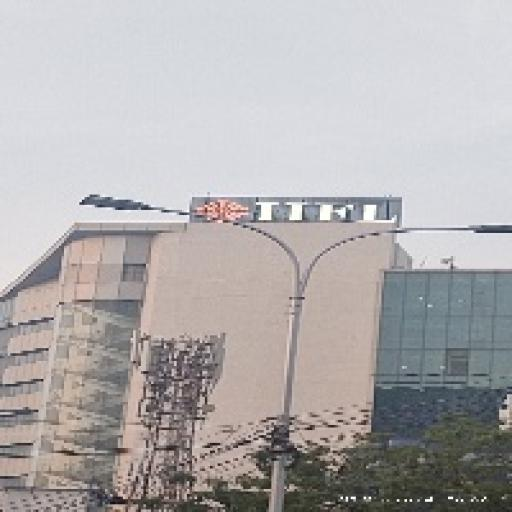Not Working: (78, 188, 152, 222), (462, 214, 512, 245)
